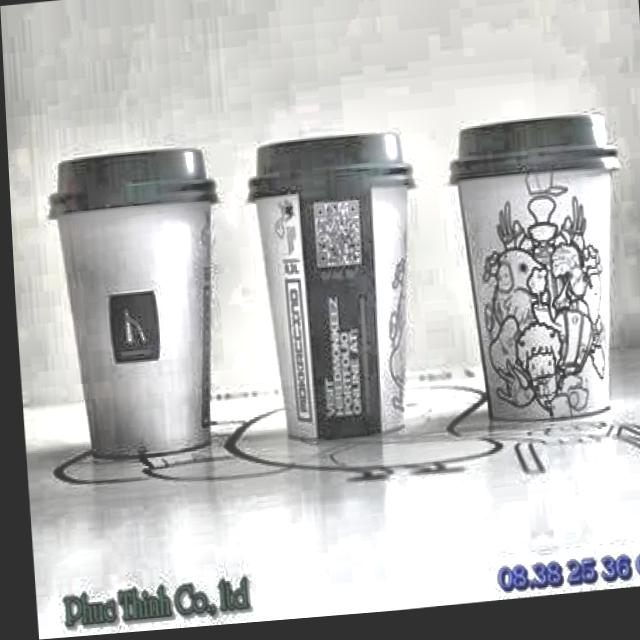Cup: (37, 131, 235, 468), (439, 107, 632, 449), (244, 116, 428, 457)
